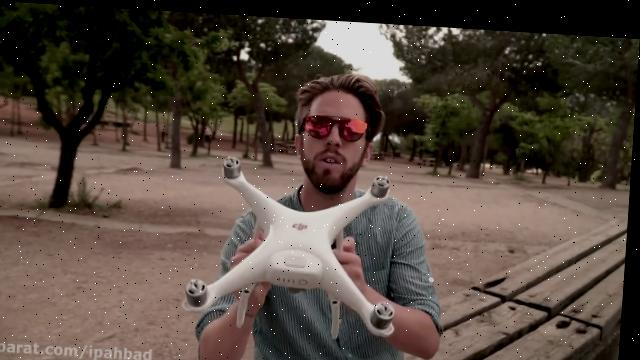drone: (182, 148, 406, 332)
